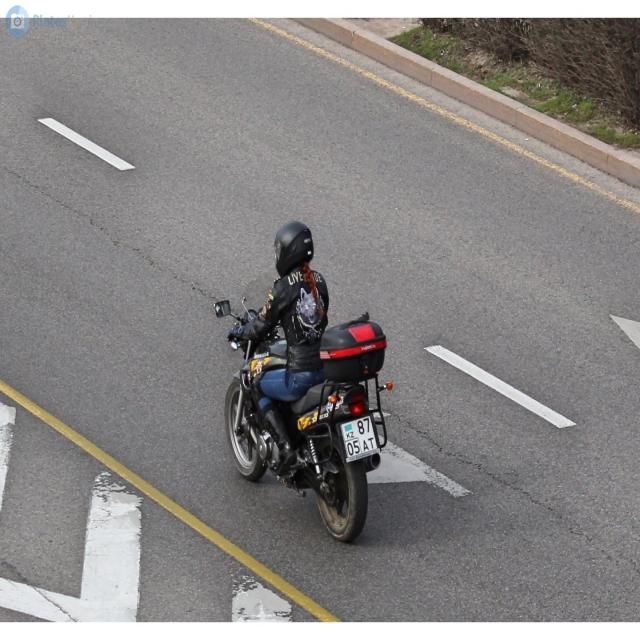license: (340, 414, 380, 463)
